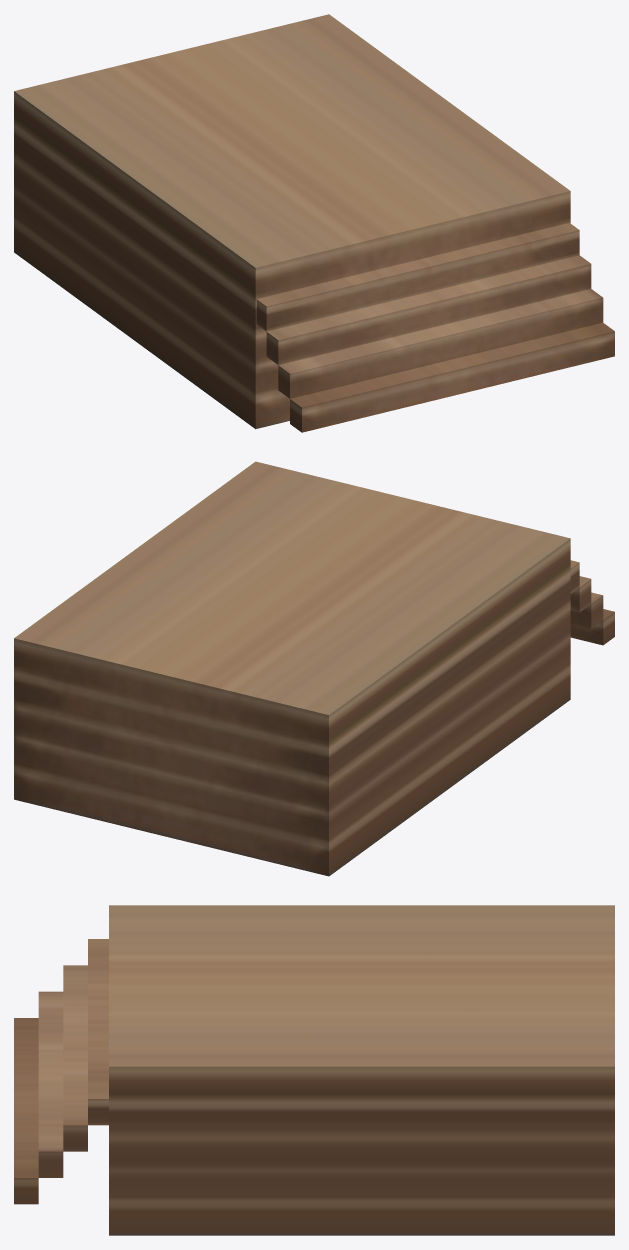
File: Stairs_01.glb
3 views of the same model, one above another, from view 1: azimuth 30°, elevation 25°; view 2: azimuth 150°, elevation 25°; view 3: azimuth 270°, elevation 25° (orthographic). The views are drawn at different scales.
Parts seen in each view (by area): view 1: Stairs_01; view 2: Stairs_01; view 3: Stairs_01.
Part boxes in pixels (<box>): Stairs_01: <box>14,14,614,432</box>; Stairs_01: <box>14,461,614,876</box>; Stairs_01: <box>14,905,614,1235</box>.
Size of the model in its own units: 4.74 by 2.32 by 7.47.
Materials: 1 (1 with a texture image).
